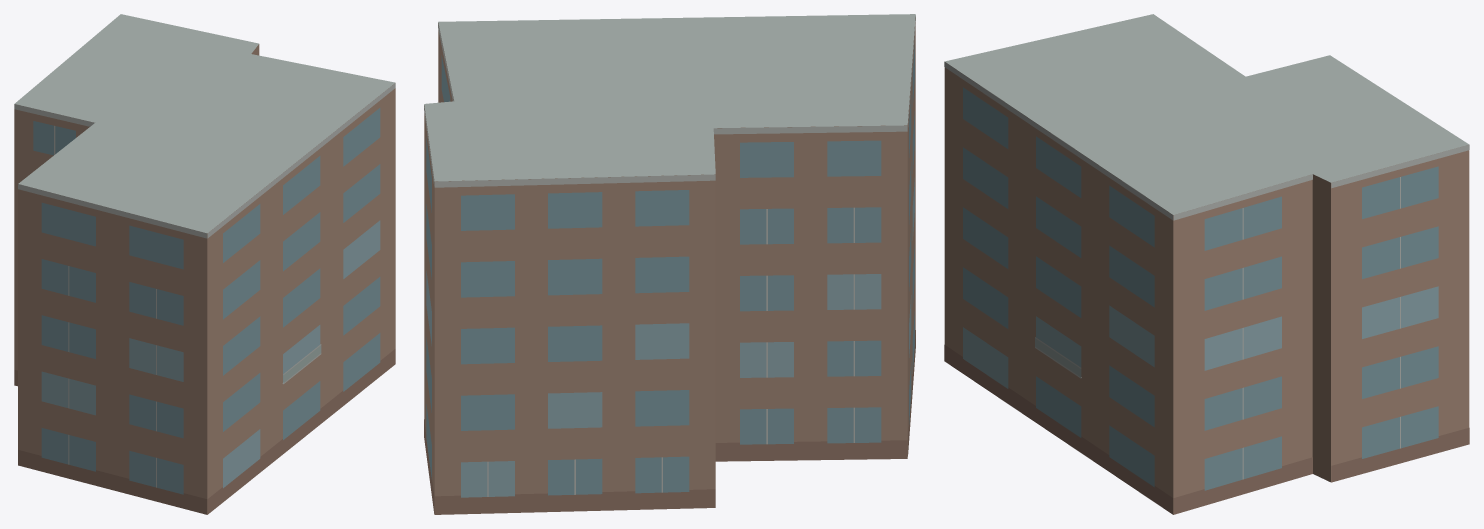
The model's file is survey-upis-32791548.glb.
3 renders of one model, left to right at view 1: azimuth 30°, elevation 25°; view 2: azimuth 150°, elevation 25°; view 3: azimuth 270°, elevation 25°, orthographic. The views are drawn at different scales.
Parts seen in each view (by area): view 1: survey-upis-32791548.tmp; view 2: survey-upis-32791548.tmp; view 3: survey-upis-32791548.tmp.
Boxes of the visible parts, x1,y1,x2,y2 form: survey-upis-32791548.tmp: (14, 14, 395, 514); survey-upis-32791548.tmp: (424, 14, 915, 514); survey-upis-32791548.tmp: (944, 14, 1469, 514).
Bounding box in the file's own units: 18.71 × 13 × 20.64.
